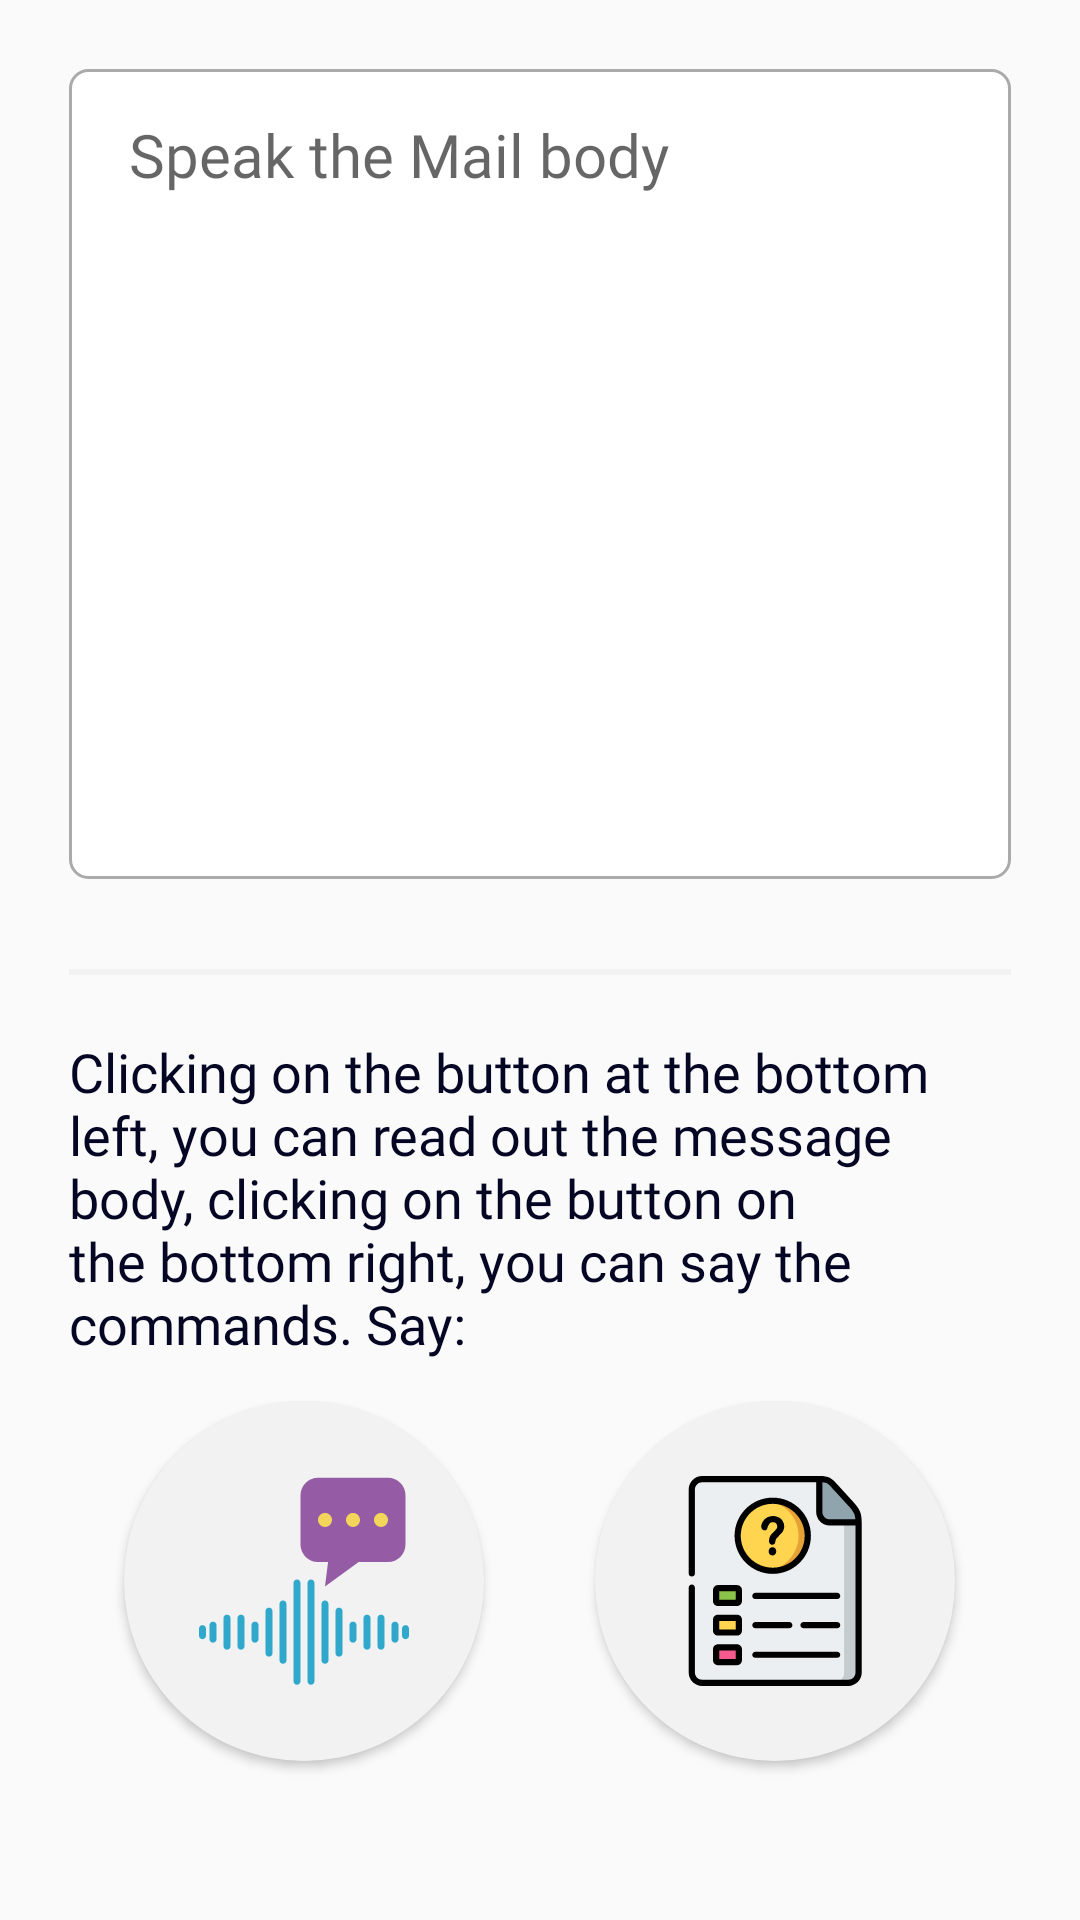

Named icons in this screenshot (1080 x 1920) and their centers, point (x, y):
instruction: point (778, 1618)
record: point (301, 1619)
